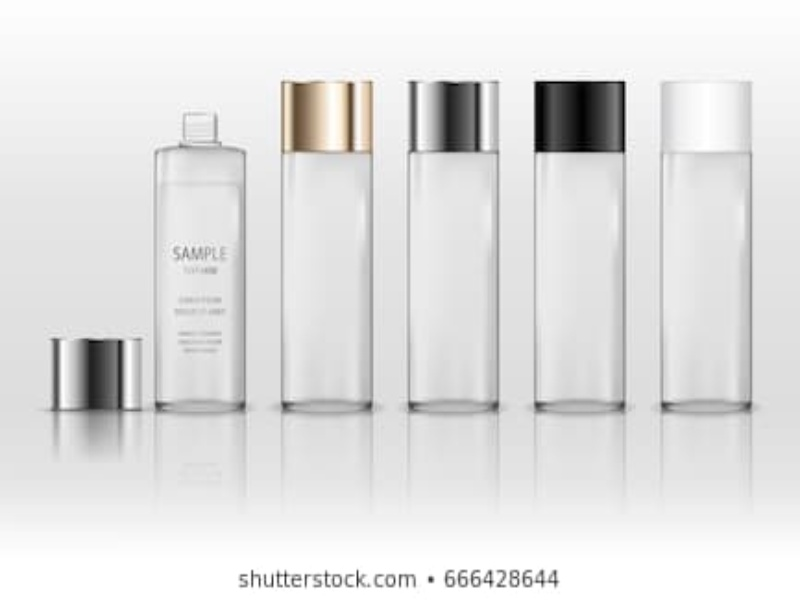shampoo-bottle: (274, 77, 381, 415), (403, 74, 506, 417), (531, 80, 633, 414), (657, 79, 757, 418), (148, 111, 250, 416)
